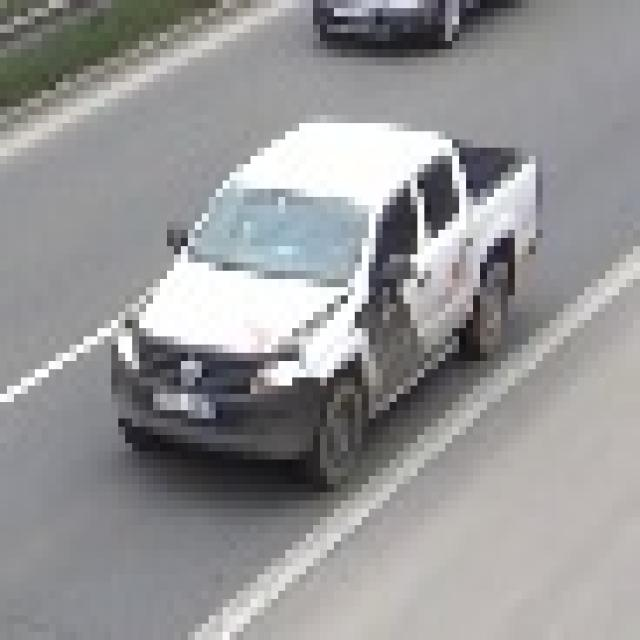CMT: (128, 131, 536, 461)
